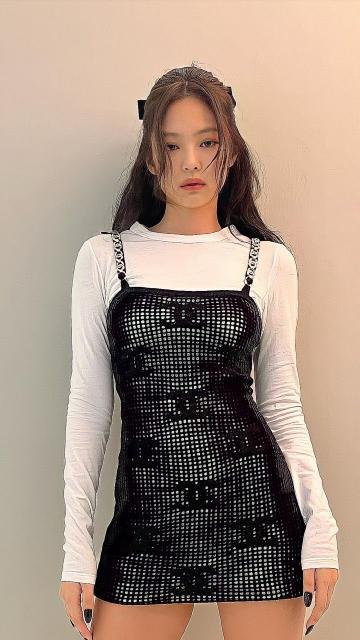Chanel: (155, 292, 211, 336), (156, 294, 214, 334), (166, 564, 230, 600), (114, 350, 168, 384), (174, 477, 230, 509), (161, 388, 212, 420), (232, 523, 288, 551), (130, 436, 168, 474)
